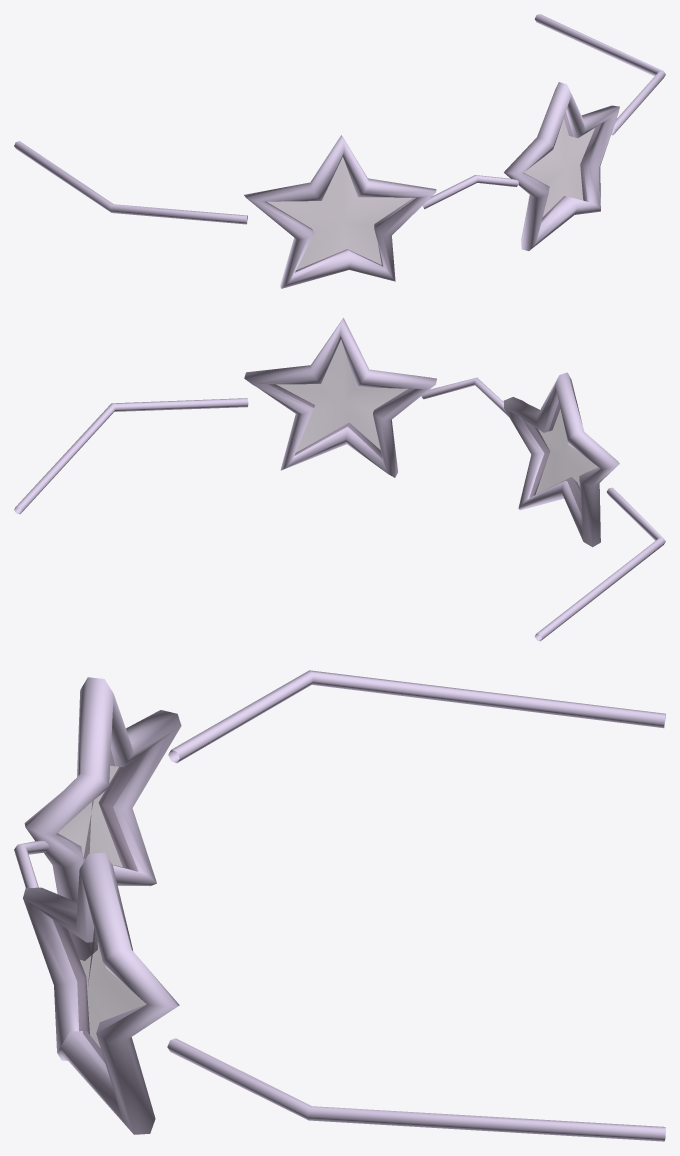
The model's file is glasses_star_penguin_tailored.glb.
3 renders of one model, top to bottom at view 1: azimuth 30°, elevation 25°; view 2: azimuth 150°, elevation 25°; view 3: azimuth 270°, elevation 25°, orthographic. The views are drawn at different scales.
Parts seen in each view (by area): view 1: Montura.004, Montura.005, Lente ahumada.002, Lente ahumada.003, Patilla curva.004, Patilla curva.005, Puente nasal.002; view 2: Montura.005, Montura.004, Lente ahumada.003, Lente ahumada.002, Patilla curva.005, Patilla curva.004, Puente nasal.002; view 3: Montura.005, Montura.004, Patilla curva.005, Patilla curva.004, Lente ahumada.003, Lente ahumada.002, Puente nasal.002.
Boxes of the visible parts, <box> form: Montura.004: <box>244,135,436,288</box>; Montura.005: <box>504,82,619,250</box>; Lente ahumada.002: <box>266,157,414,272</box>; Lente ahumada.003: <box>524,112,600,220</box>; Patilla curva.004: <box>14,141,247,224</box>; Patilla curva.005: <box>535,14,665,135</box>; Puente nasal.002: <box>422,175,518,209</box>; Montura.005: <box>244,318,436,477</box>; Montura.004: <box>503,372,619,547</box>; Lente ahumada.003: <box>268,339,412,458</box>; Lente ahumada.002: <box>522,402,598,513</box>; Patilla curva.005: <box>14,398,248,514</box>; Patilla curva.004: <box>534,487,665,641</box>; Puente nasal.002: <box>421,377,509,417</box>; Montura.005: <box>23,852,179,1134</box>; Montura.004: <box>24,677,181,960</box>; Patilla curva.005: <box>167,1038,665,1141</box>; Patilla curva.004: <box>168,670,665,762</box>; Lente ahumada.003: <box>53,919,145,1062</box>; Lente ahumada.002: <box>58,749,149,871</box>; Puente nasal.002: <box>14,840,49,887</box>.
Bounding box in the file's own units: 0.7071 × 0.1838 × 0.4413.
